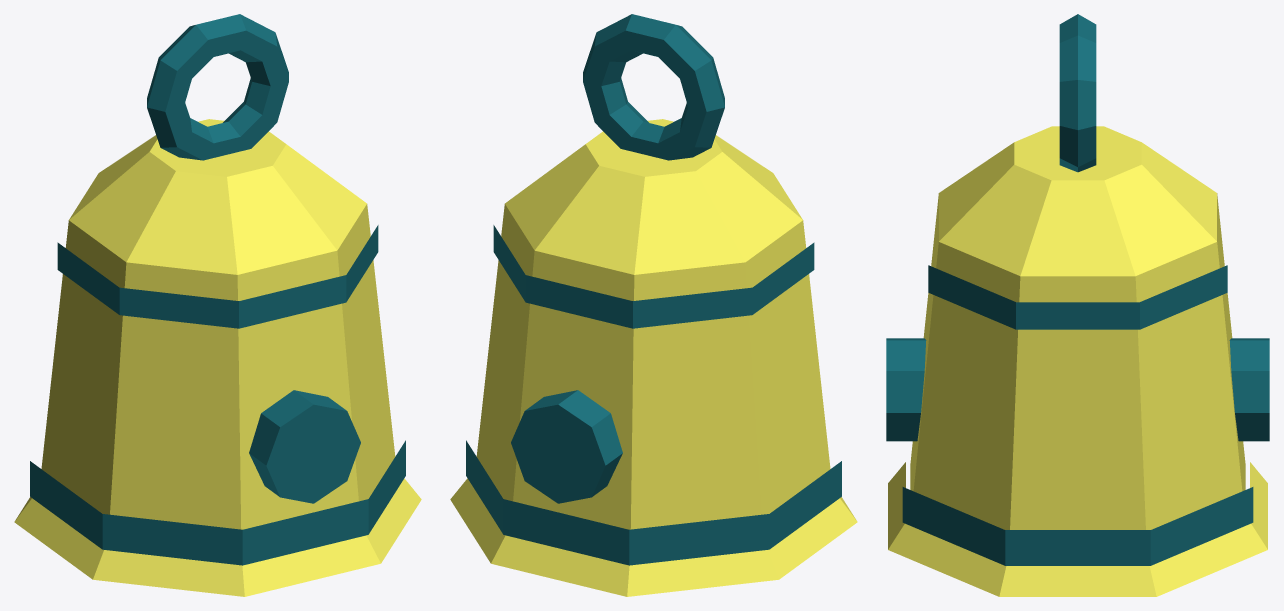
File: bell.glb
3 renders of one model, left to right at view 1: azimuth 30°, elevation 25°; view 2: azimuth 150°, elevation 25°; view 3: azimuth 270°, elevation 25°, orthographic.
Visible parts, largest first — view 1: Bell; view 2: Bell; view 3: Bell.
Boxes of the visible parts, box(x1,y1,x2,y2) form: Bell: box(14, 14, 421, 596); Bell: box(450, 14, 857, 596); Bell: box(886, 14, 1269, 596).
Size of the model in its own units: 1.25 by 1.78 by 1.26.
